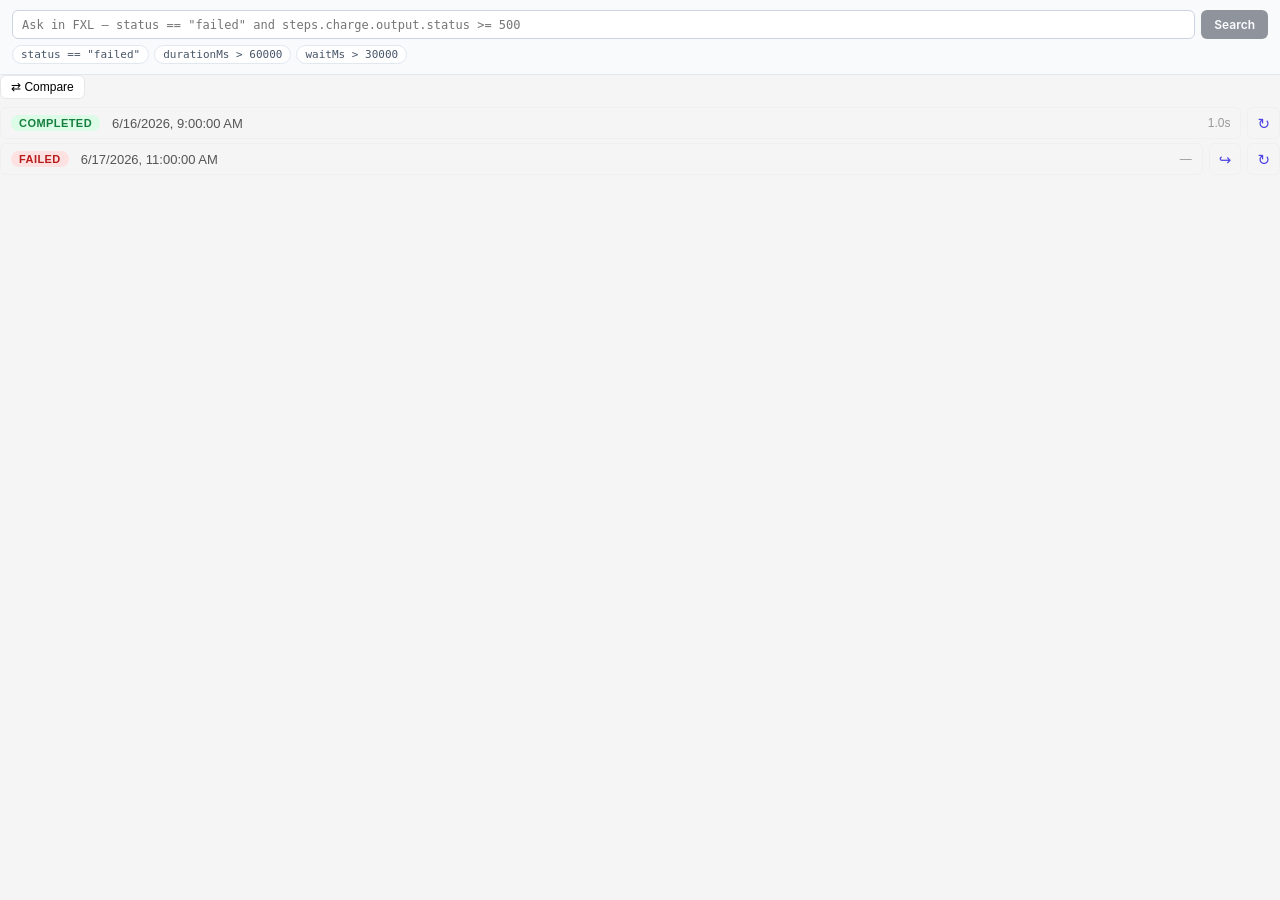
Test: ExecutionHistory replay › confirms with the webhook label and warns when the workflow changed since
Expected: the text "completed" is shown, [11,115,100,131]
What coordinates should you click on to do the following:
click the button named "Replay this run"
I would click on:
 (1264, 123)
Its box is [1247,107,1279,139].
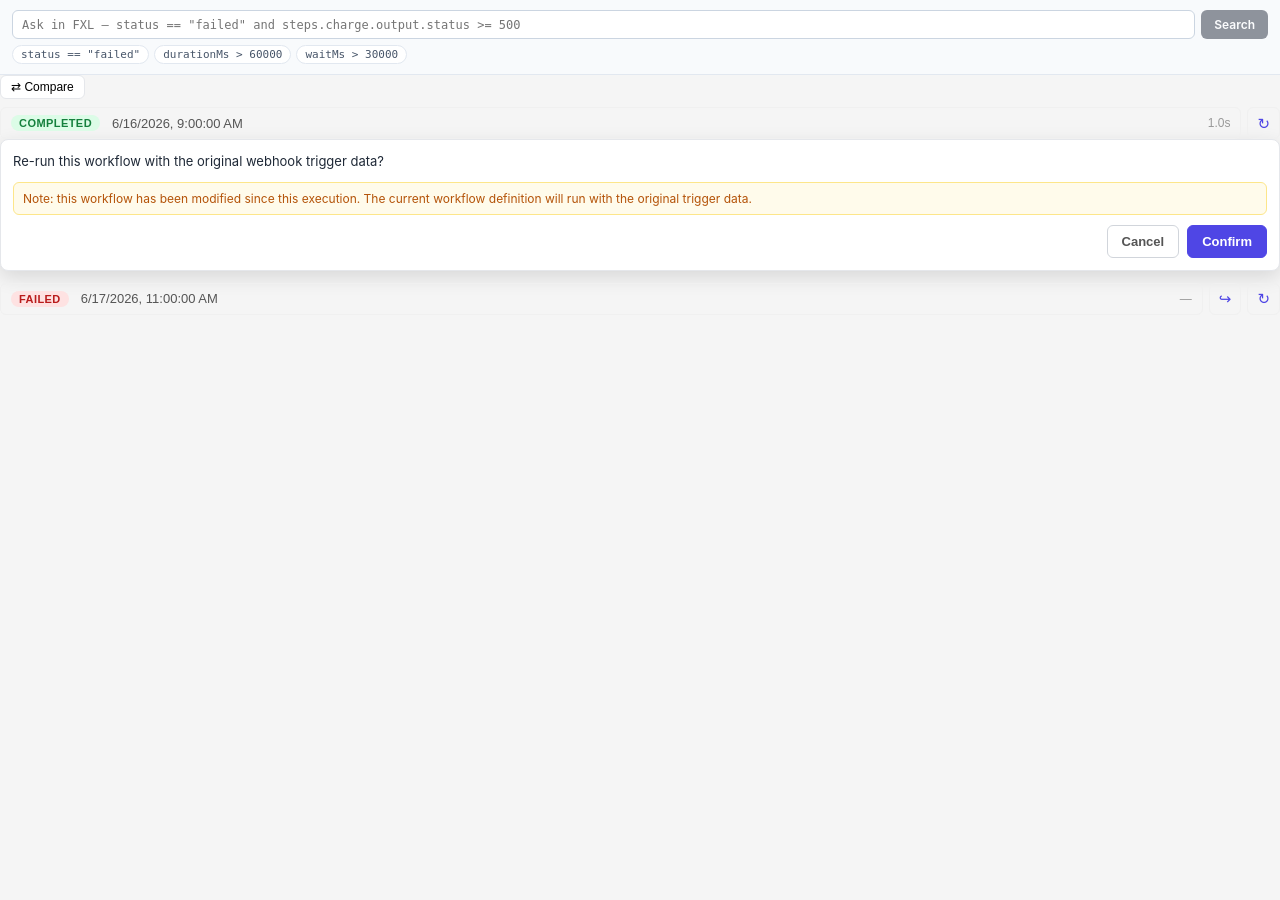
Now the dialog shows "Re-run this workflow with the original webhook trigger data?", box [0,139,1279,271]
Now the dialog shows "this workflow has been modified since this execution", box [23,190,752,206]
